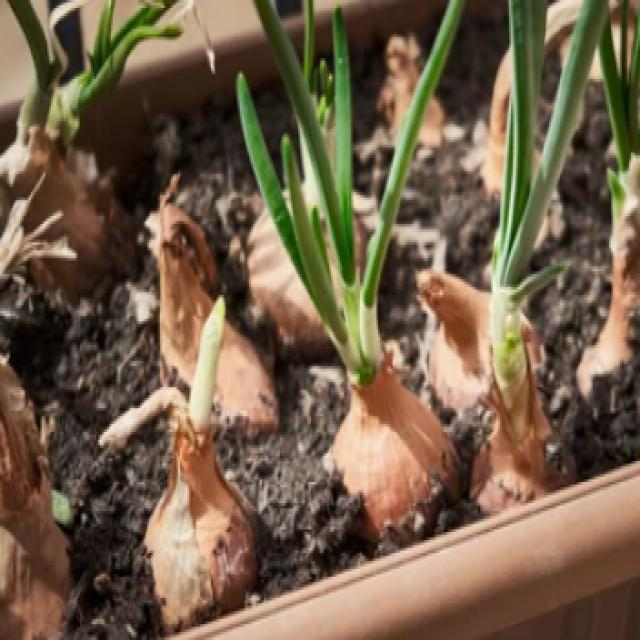sprouting: (306, 234, 394, 390), (490, 129, 534, 390), (592, 66, 632, 234), (174, 326, 217, 439), (30, 36, 66, 140)
